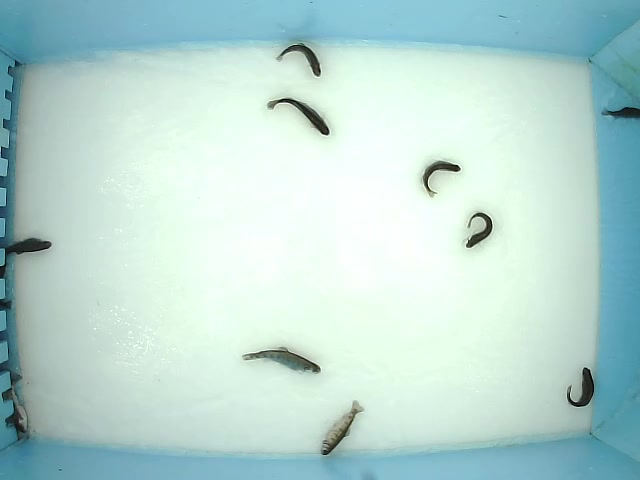fish: (265, 96, 331, 137), (319, 399, 365, 457), (240, 345, 323, 375), (274, 42, 322, 78), (421, 160, 461, 199), (566, 365, 595, 409), (1, 236, 54, 258), (464, 211, 493, 249), (600, 104, 640, 121)
